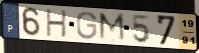5: (130, 14, 153, 45)
6: (21, 6, 43, 38)
7: (155, 14, 178, 47)
G: (76, 10, 99, 41)
H: (45, 8, 68, 39)
M: (97, 11, 128, 44)
